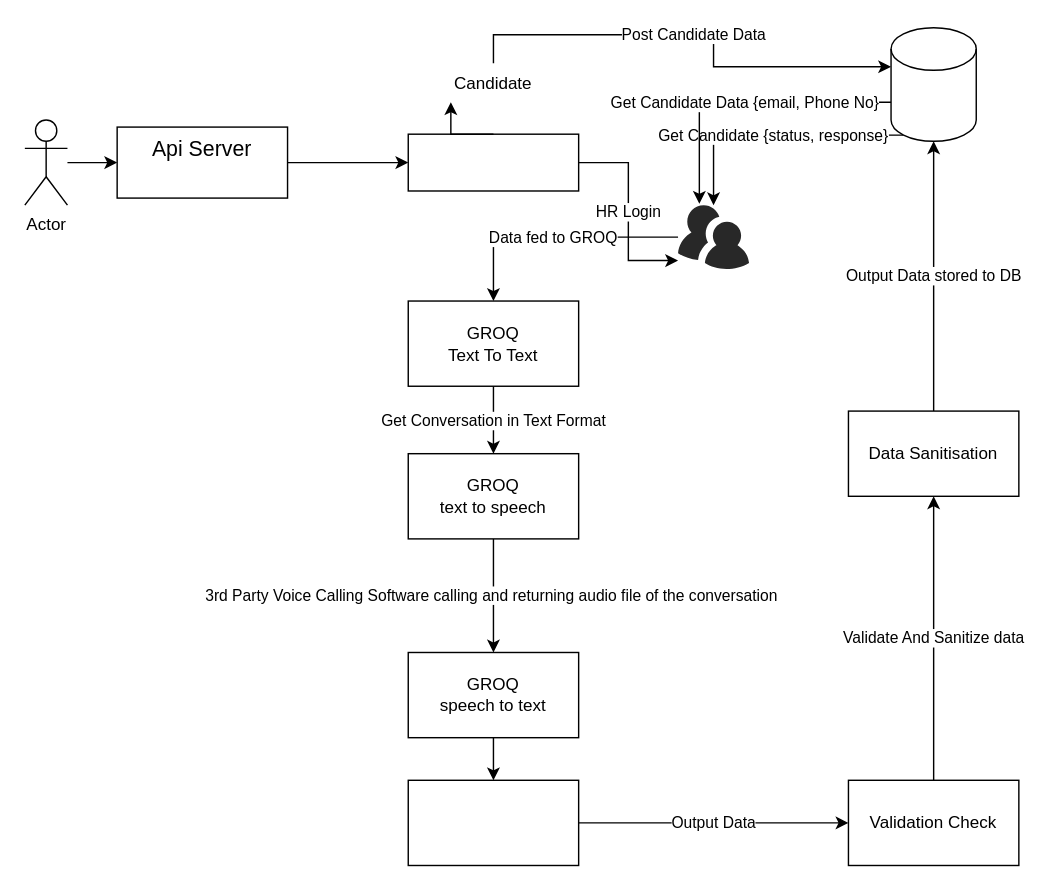
Some shapes in this 1049 by 890 pixel diagram are drawn without their labels. The centre of each missing label's shape, as x and y in pixels:
"GROQ text to text for getting proper dates" belongs at [493,822].
"HR" belongs at [712,236].
"Mongo" belongs at [933,83].
"User" belongs at [493,162].
